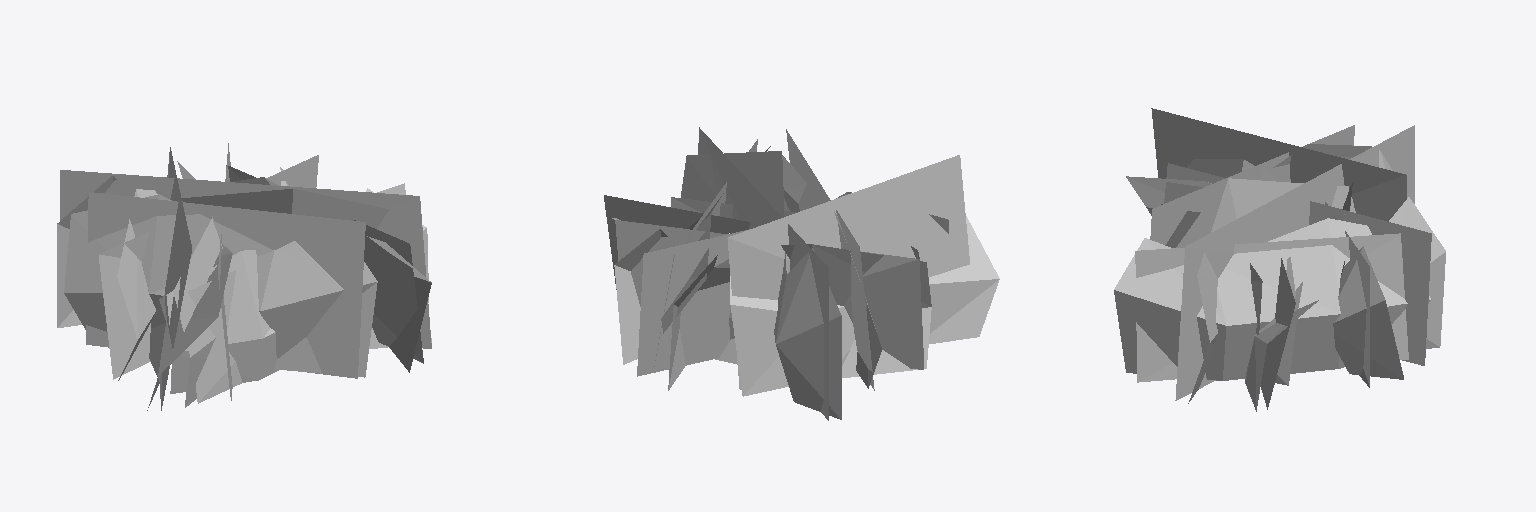
The model's file is BSwap_GrassPatches_01.obj.
3 views of the same model, side by side, from view 1: azimuth 30°, elevation 25°; view 2: azimuth 150°, elevation 25°; view 3: azimuth 270°, elevation 25° (orthographic).
Parts seen in each view (by area): view 1: GrassPatch02, GrassPatch02_LoD_GrassPatch02.001, GrassPatch01, GrassPatch01_LoD_GrassPatch01.002; view 2: GrassPatch02_LoD_GrassPatch02.001, GrassPatch01_LoD_GrassPatch01.002, GrassPatch01, GrassPatch02; view 3: GrassPatch02, GrassPatch02_LoD_GrassPatch02.001, GrassPatch01_LoD_GrassPatch01.002, GrassPatch01.
Boxes of the visible parts, box(x1,y1,x2,y2) form: GrassPatch02: box(64, 177, 431, 410); GrassPatch02_LoD_GrassPatch02.001: box(86, 147, 423, 410); GrassPatch01: box(57, 161, 431, 407); GrassPatch01_LoD_GrassPatch01.002: box(60, 143, 431, 403); GrassPatch02_LoD_GrassPatch02.001: box(604, 129, 969, 390); GrassPatch01_LoD_GrassPatch01.002: box(615, 127, 923, 420); GrassPatch01: box(614, 151, 948, 419); GrassPatch02: box(612, 146, 999, 396); GrassPatch02: box(1114, 144, 1430, 411); GrassPatch02_LoD_GrassPatch02.001: box(1135, 108, 1408, 409); GrassPatch01_LoD_GrassPatch01.002: box(1164, 125, 1431, 400); GrassPatch01: box(1186, 150, 1445, 403).
Bounding box in the file's own units: 72.27 × 35.82 × 63.06.